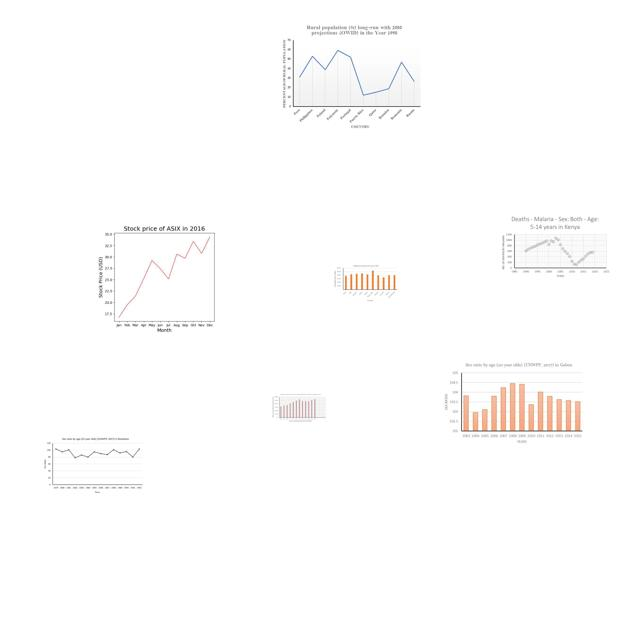Graph: (86, 219, 239, 334), (280, 23, 423, 130), (441, 361, 585, 446), (499, 214, 611, 278), (42, 435, 144, 495), (334, 264, 398, 302), (271, 393, 327, 423)
